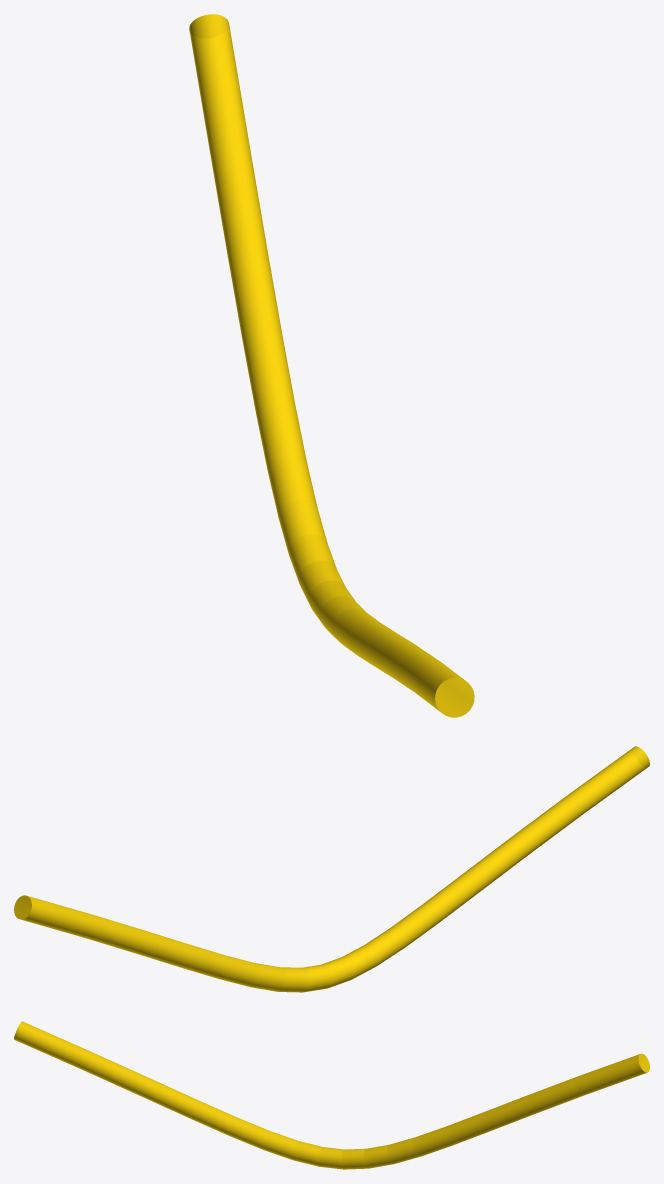
File: Event_421115418_track_206.fbx
The picture shows the model from 3 angles, top to bottom: view 1: azimuth 30°, elevation 25°; view 2: azimuth 150°, elevation 25°; view 3: azimuth 270°, elevation 25°; orthographic projection. The views are drawn at different scales.
Visible parts, largest first — view 1: Model; view 2: Model; view 3: Model.
Boxes of the visible parts, left/top/right/bottom form: Model: left=189, top=14, right=474, bottom=717; Model: left=14, top=746, right=649, bottom=992; Model: left=14, top=1021, right=649, bottom=1169.
Bounding box in the file's own units: 0.4738 × 0.3515 × 1.26.
